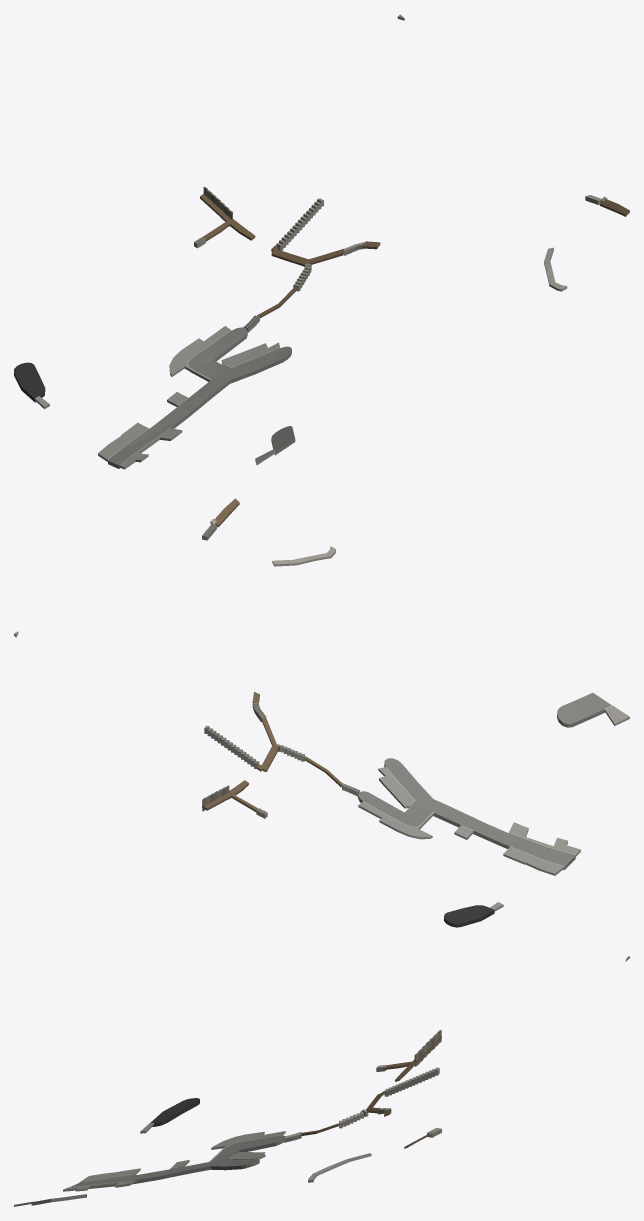
The model's file is 18-218866-118953.42eec8d8.glb.
The picture shows the model from 3 angles, top to bottom: view 1: azimuth 30°, elevation 25°; view 2: azimuth 150°, elevation 25°; view 3: azimuth 330°, elevation 25°; orthographic projection. The views are drawn at different scales.
Size of the model in its own units: 147 by 78.67 by 146.
